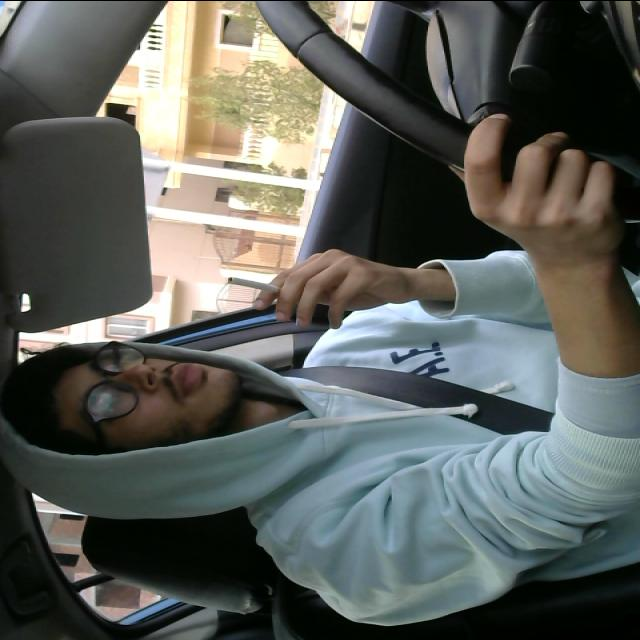smoking: (216, 274, 303, 298)
